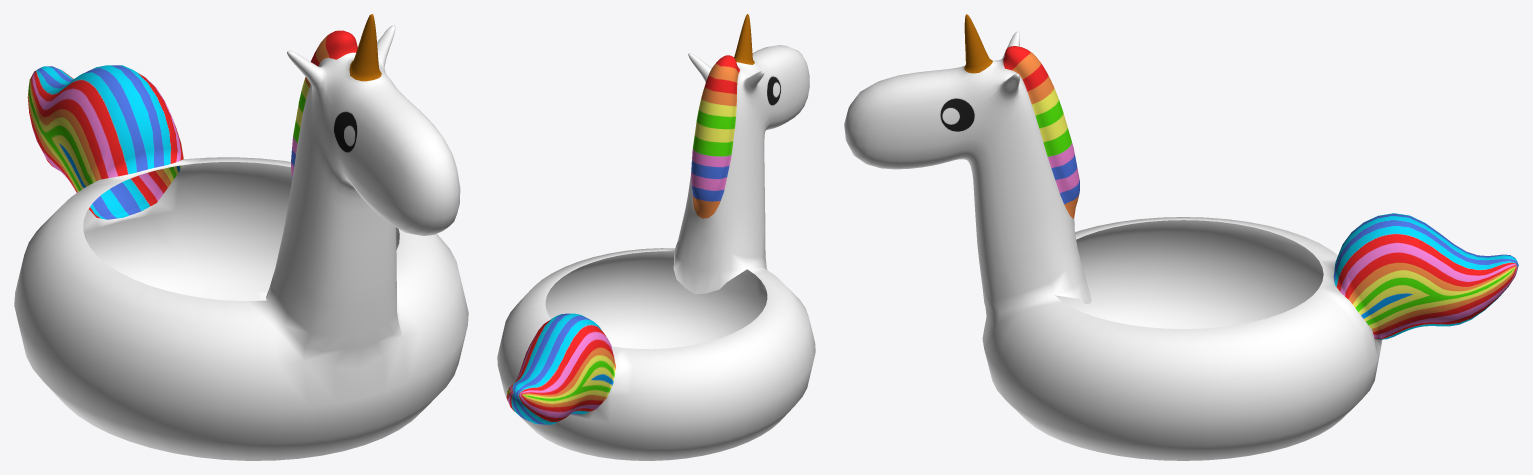
Rendered from asset.glb.
3 views of the same model, side by side, from view 1: azimuth 30°, elevation 25°; view 2: azimuth 150°, elevation 25°; view 3: azimuth 270°, elevation 25° (orthographic). The views are drawn at different scales.
Visible parts, largest first — view 1: Object_6; view 2: Object_6; view 3: Object_6.
Part boxes in pixels (box(x1,y1,x2,y2)): Object_6: box(14, 14, 468, 460); Object_6: box(497, 14, 815, 460); Object_6: box(844, 14, 1518, 460).
Size of the model in its own units: 4.38 by 5.08 by 7.98.
1 material, 1 textured.
